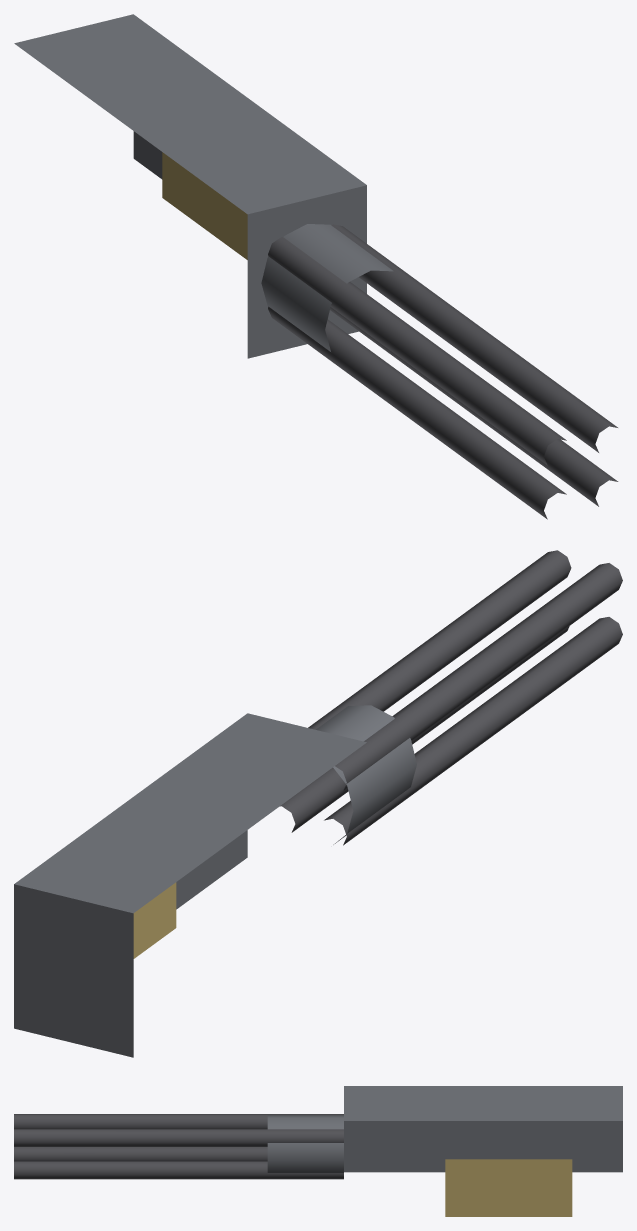
File: weapon_chaingun.glb
3 renders of one model, top to bottom at view 1: azimuth 30°, elevation 25°; view 2: azimuth 150°, elevation 25°; view 3: azimuth 270°, elevation 25°, orthographic. The views are drawn at different scales.
Bounding box in the file's own units: 0.155 × 0.155 × 0.96.
